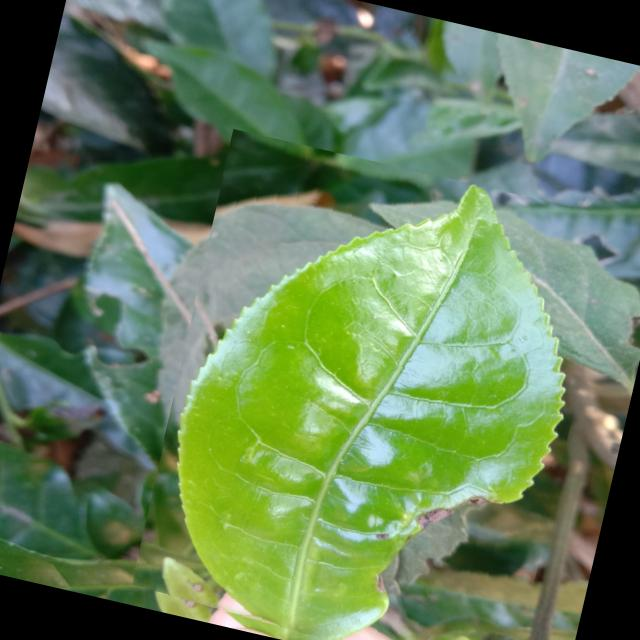Category B(2-4 days): (123, 128, 617, 640)
